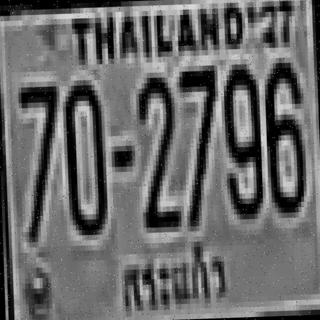N00: (62, 77, 105, 228)
N02: (136, 72, 177, 228)
N06: (262, 57, 303, 213)
N07: (18, 81, 62, 237), (177, 65, 218, 226), (177, 65, 217, 185)
N09: (221, 59, 262, 214)
P55: (119, 235, 237, 319)
